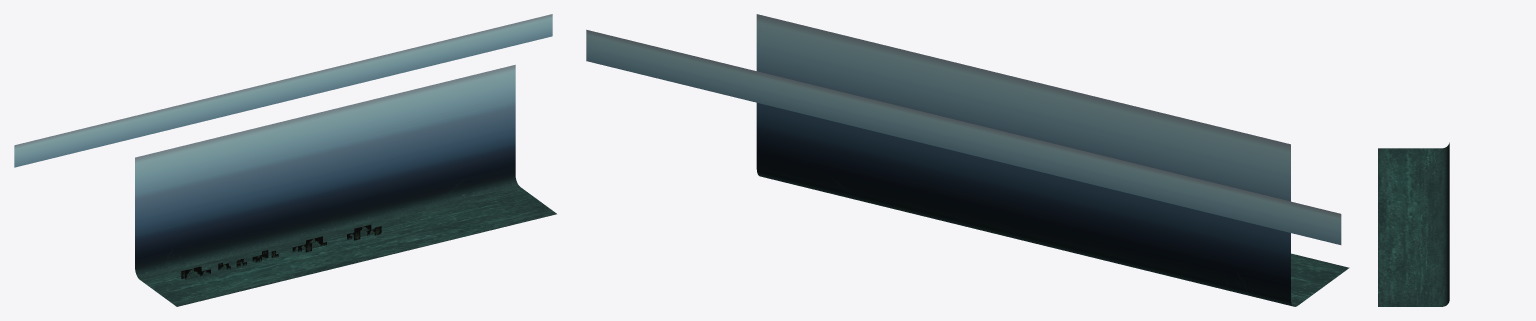
The model's file is pir_m_gam_fsh_fishEnvironment.fbx.
3 views of the same model, side by side, from view 1: azimuth 30°, elevation 25°; view 2: azimuth 150°, elevation 25°; view 3: azimuth 270°, elevation 25° (orthographic). The views are drawn at different scales.
Parts seen in each view (by area): view 1: environment, back; view 2: environment, back; view 3: environment.
Part boxes in pixels (x1,y1,x2,y2): environment: (135,64,556,306); back: (14,14,552,167); environment: (756,14,1349,306); back: (586,29,1341,244); environment: (1378,142,1449,306).
Bounding box in the file's own units: 39927 × 8449 × 10826.
2 materials, 2 textured.
